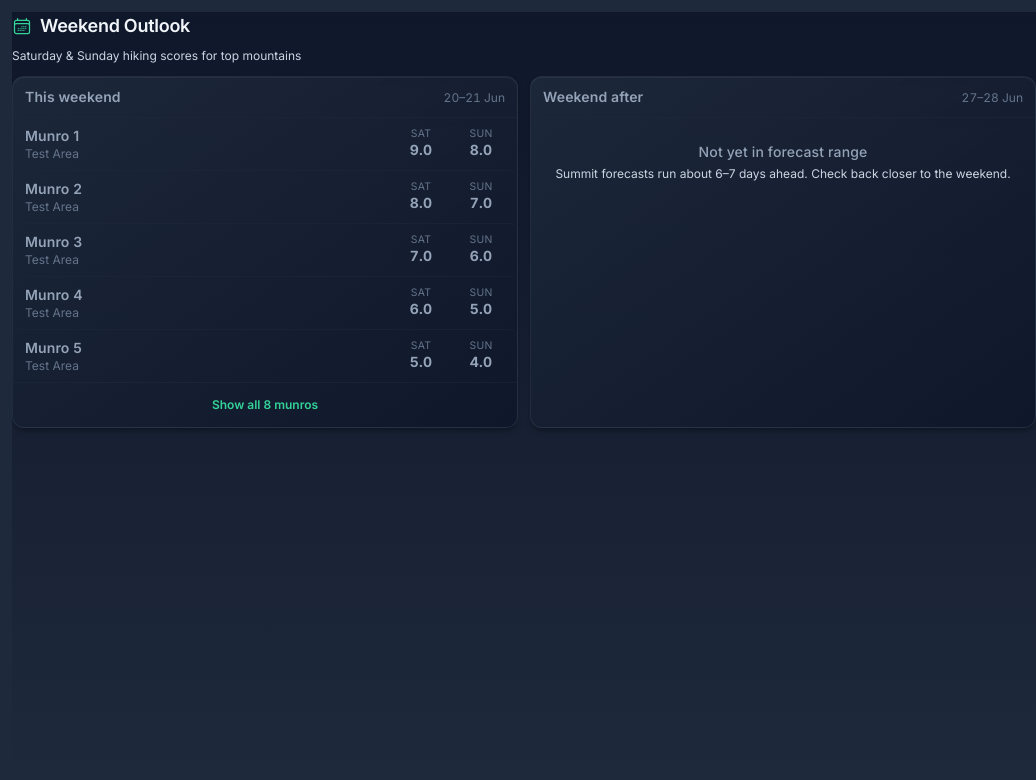
Test: WeekendOutlook — per-panel expand/collapse › reveals the rest when the toggle is clicked, then collapses again
Expected: the element "This weekend" is shown, [12,76,518,428]
Click the button "Show all 8 munros" at {"x": 265, "y": 405}, box [13,383,517,427]
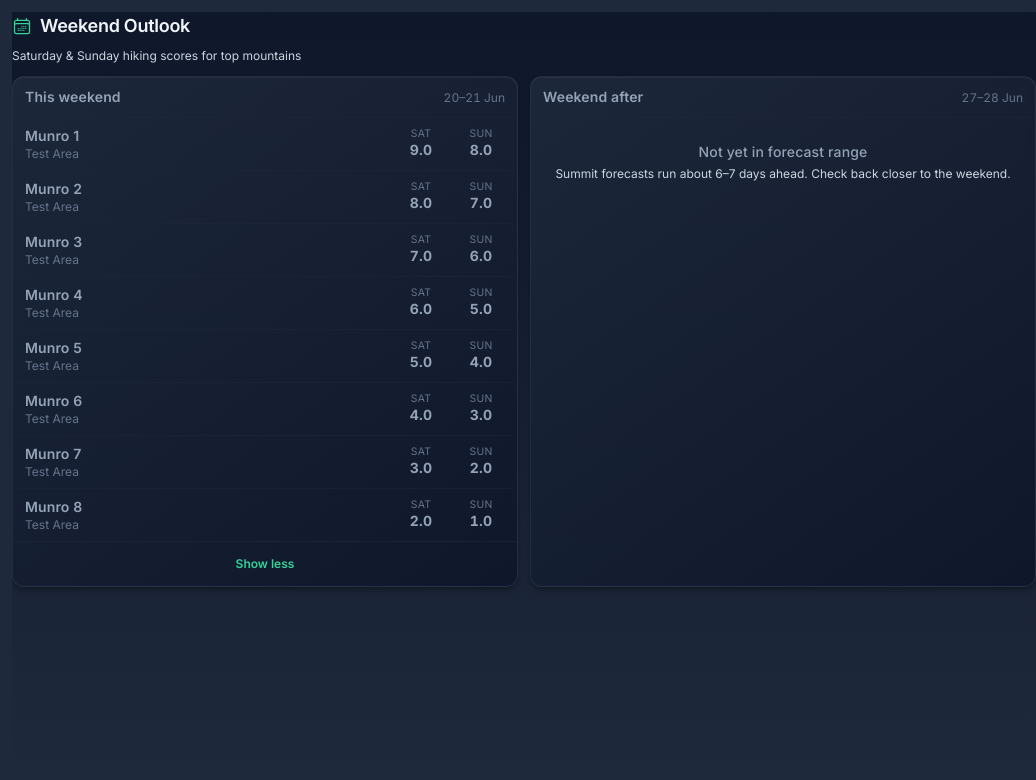
Expected: the number of links is 8
Expected: the text "Munro 6" is shown, [25,392,82,409]
Expected: the text "Munro 8" is shown, [25,498,82,515]
Note: Collapse again returns to COLLAPSED_COUNT.
Click the button with aria-label "show fewer munros for this weekend" at {"x": 265, "y": 564}, box [13,542,517,586]
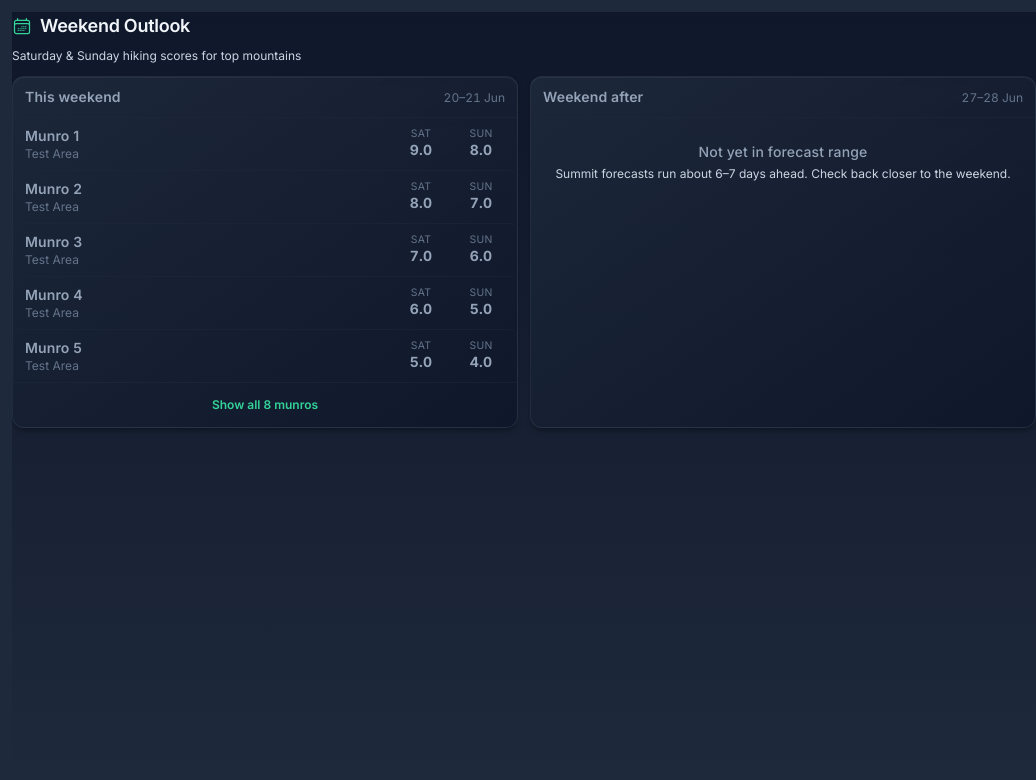
Expected: the number of links is 5, [13,118,517,170]; [13,170,517,223]; [13,223,517,276]; [13,276,517,329]; [13,329,517,382]
